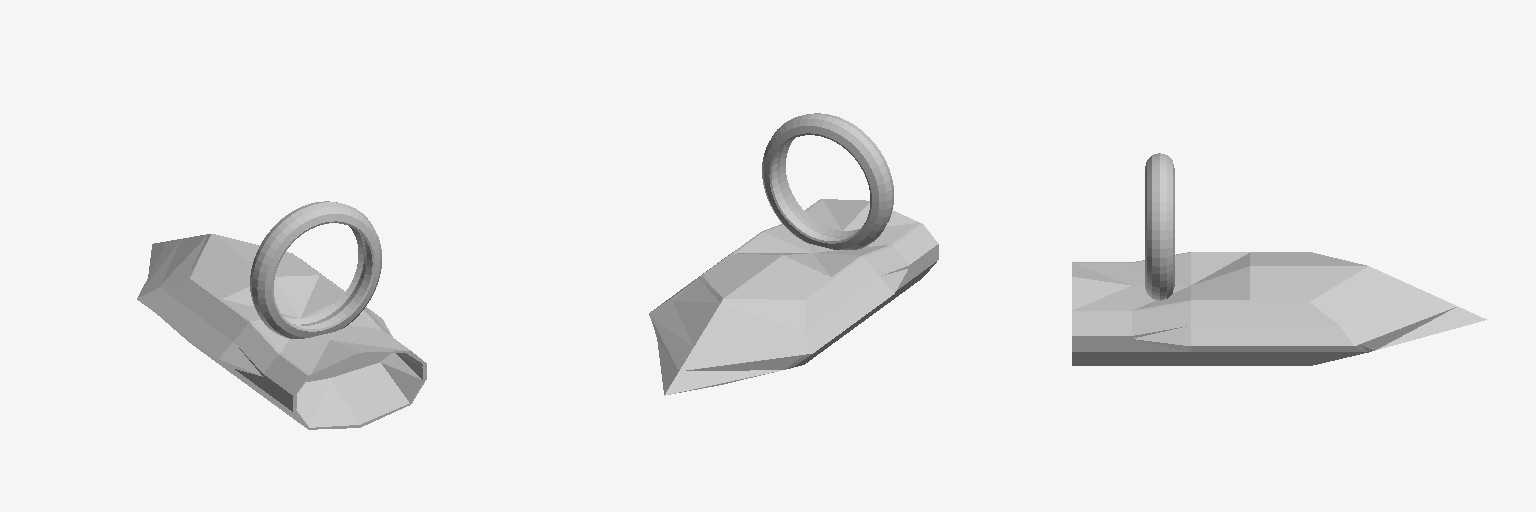
Rendered from Hovercraft.obj.
3 views of the same model, side by side, from view 1: azimuth 30°, elevation 25°; view 2: azimuth 150°, elevation 25°; view 3: azimuth 270°, elevation 25° (orthographic).
Visible parts, largest first — view 1: Cube; view 2: Cube; view 3: Cube.
Part boxes in pixels (bbox=[...]): Cube: bbox=[137, 201, 426, 429]; Cube: bbox=[649, 113, 938, 395]; Cube: bbox=[1072, 153, 1486, 365].
Bounding box in the file's own units: 3.2 × 3.57 × 7.